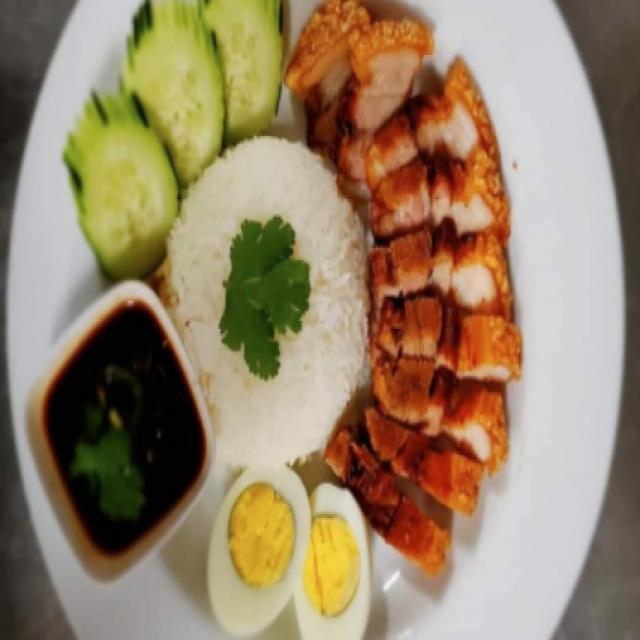Carbohydrate: (162, 135, 373, 463)
Kaow-Crispymoo: (7, 0, 627, 640)
Protein: (289, 6, 518, 571), (210, 454, 370, 640)
Vegetable: (66, 0, 277, 281), (221, 217, 313, 380)
